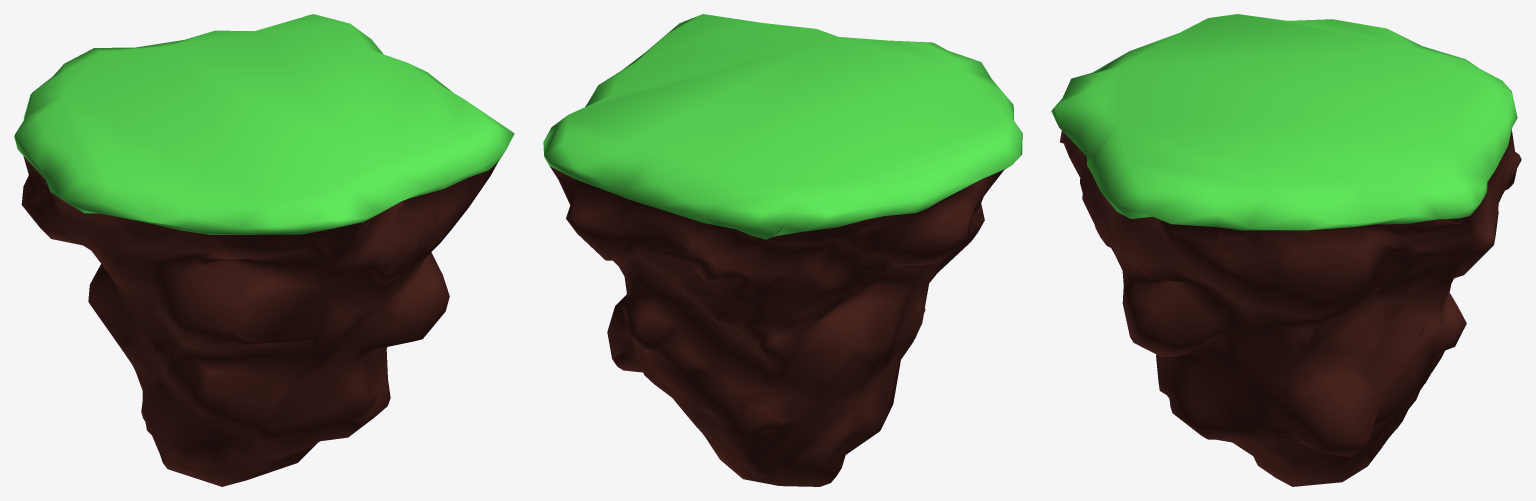
The model's file is Island.fbx.
The picture shows the model from 3 angles, left to right: view 1: azimuth 30°, elevation 25°; view 2: azimuth 150°, elevation 25°; view 3: azimuth 270°, elevation 25°; orthographic projection. The views are drawn at different scales.
Parts seen in each view (by area): view 1: Cube.004; view 2: Cube.004; view 3: Cube.004.
Part boxes in pixels (x1,y1,x2,y2): Cube.004: (14,14,514,486); Cube.004: (543,14,1022,486); Cube.004: (1051,14,1521,486).
Size of the model in its own units: 2007 by 1719 by 2004.
